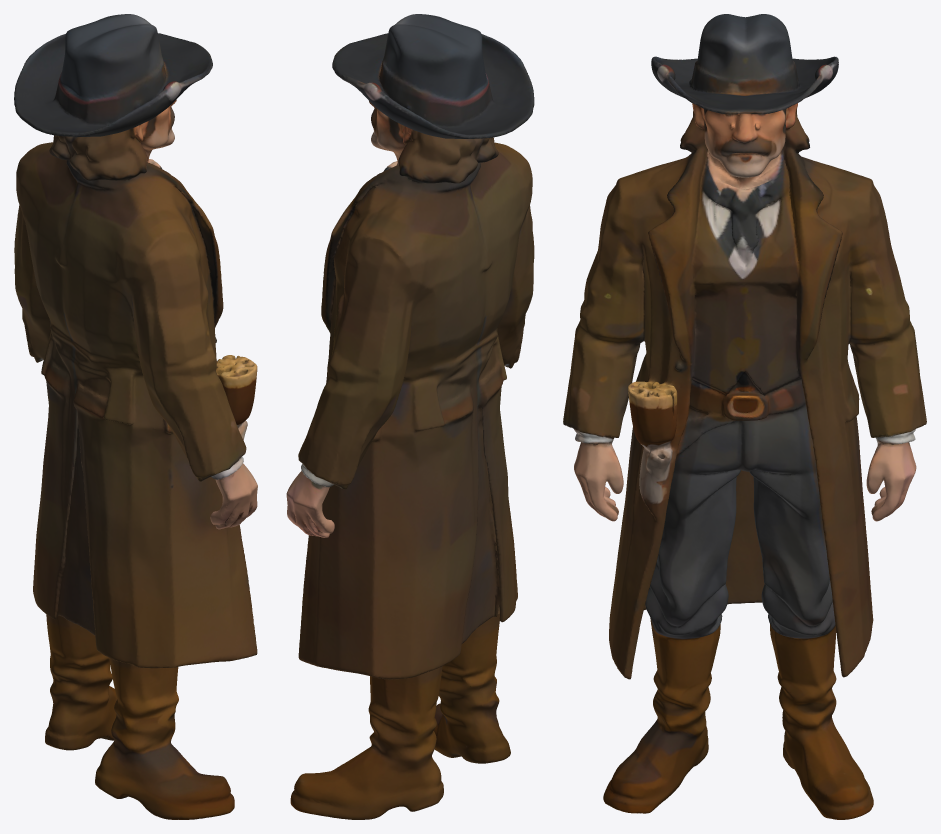
File: stranger_mesh.glb
3 renders of one model, left to right at view 1: azimuth 30°, elevation 25°; view 2: azimuth 150°, elevation 25°; view 3: azimuth 270°, elevation 25°, orthographic.
Visible parts, largest first — view 1: tripo_node_8373c13d-3c8d-42cd-b5ff-3325ae21ce82; view 2: tripo_node_8373c13d-3c8d-42cd-b5ff-3325ae21ce82; view 3: tripo_node_8373c13d-3c8d-42cd-b5ff-3325ae21ce82.
Boxes of the visible parts, <box> form: tripo_node_8373c13d-3c8d-42cd-b5ff-3325ae21ce82: <box>14,14,257,819</box>; tripo_node_8373c13d-3c8d-42cd-b5ff-3325ae21ce82: <box>286,14,534,819</box>; tripo_node_8373c13d-3c8d-42cd-b5ff-3325ae21ce82: <box>563,14,926,819</box>.
Size of the model in its own units: 0.2486 by 1 by 0.4303.
Materials: 1 (1 with a texture image).
